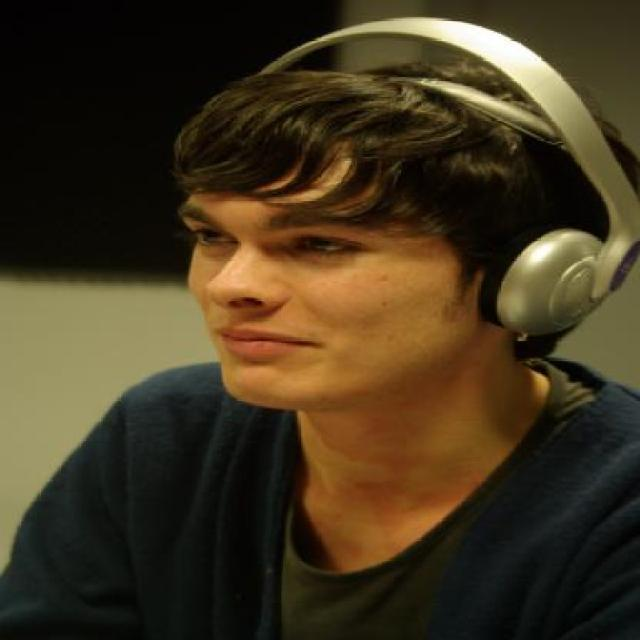earphone: (351, 8, 640, 396)
